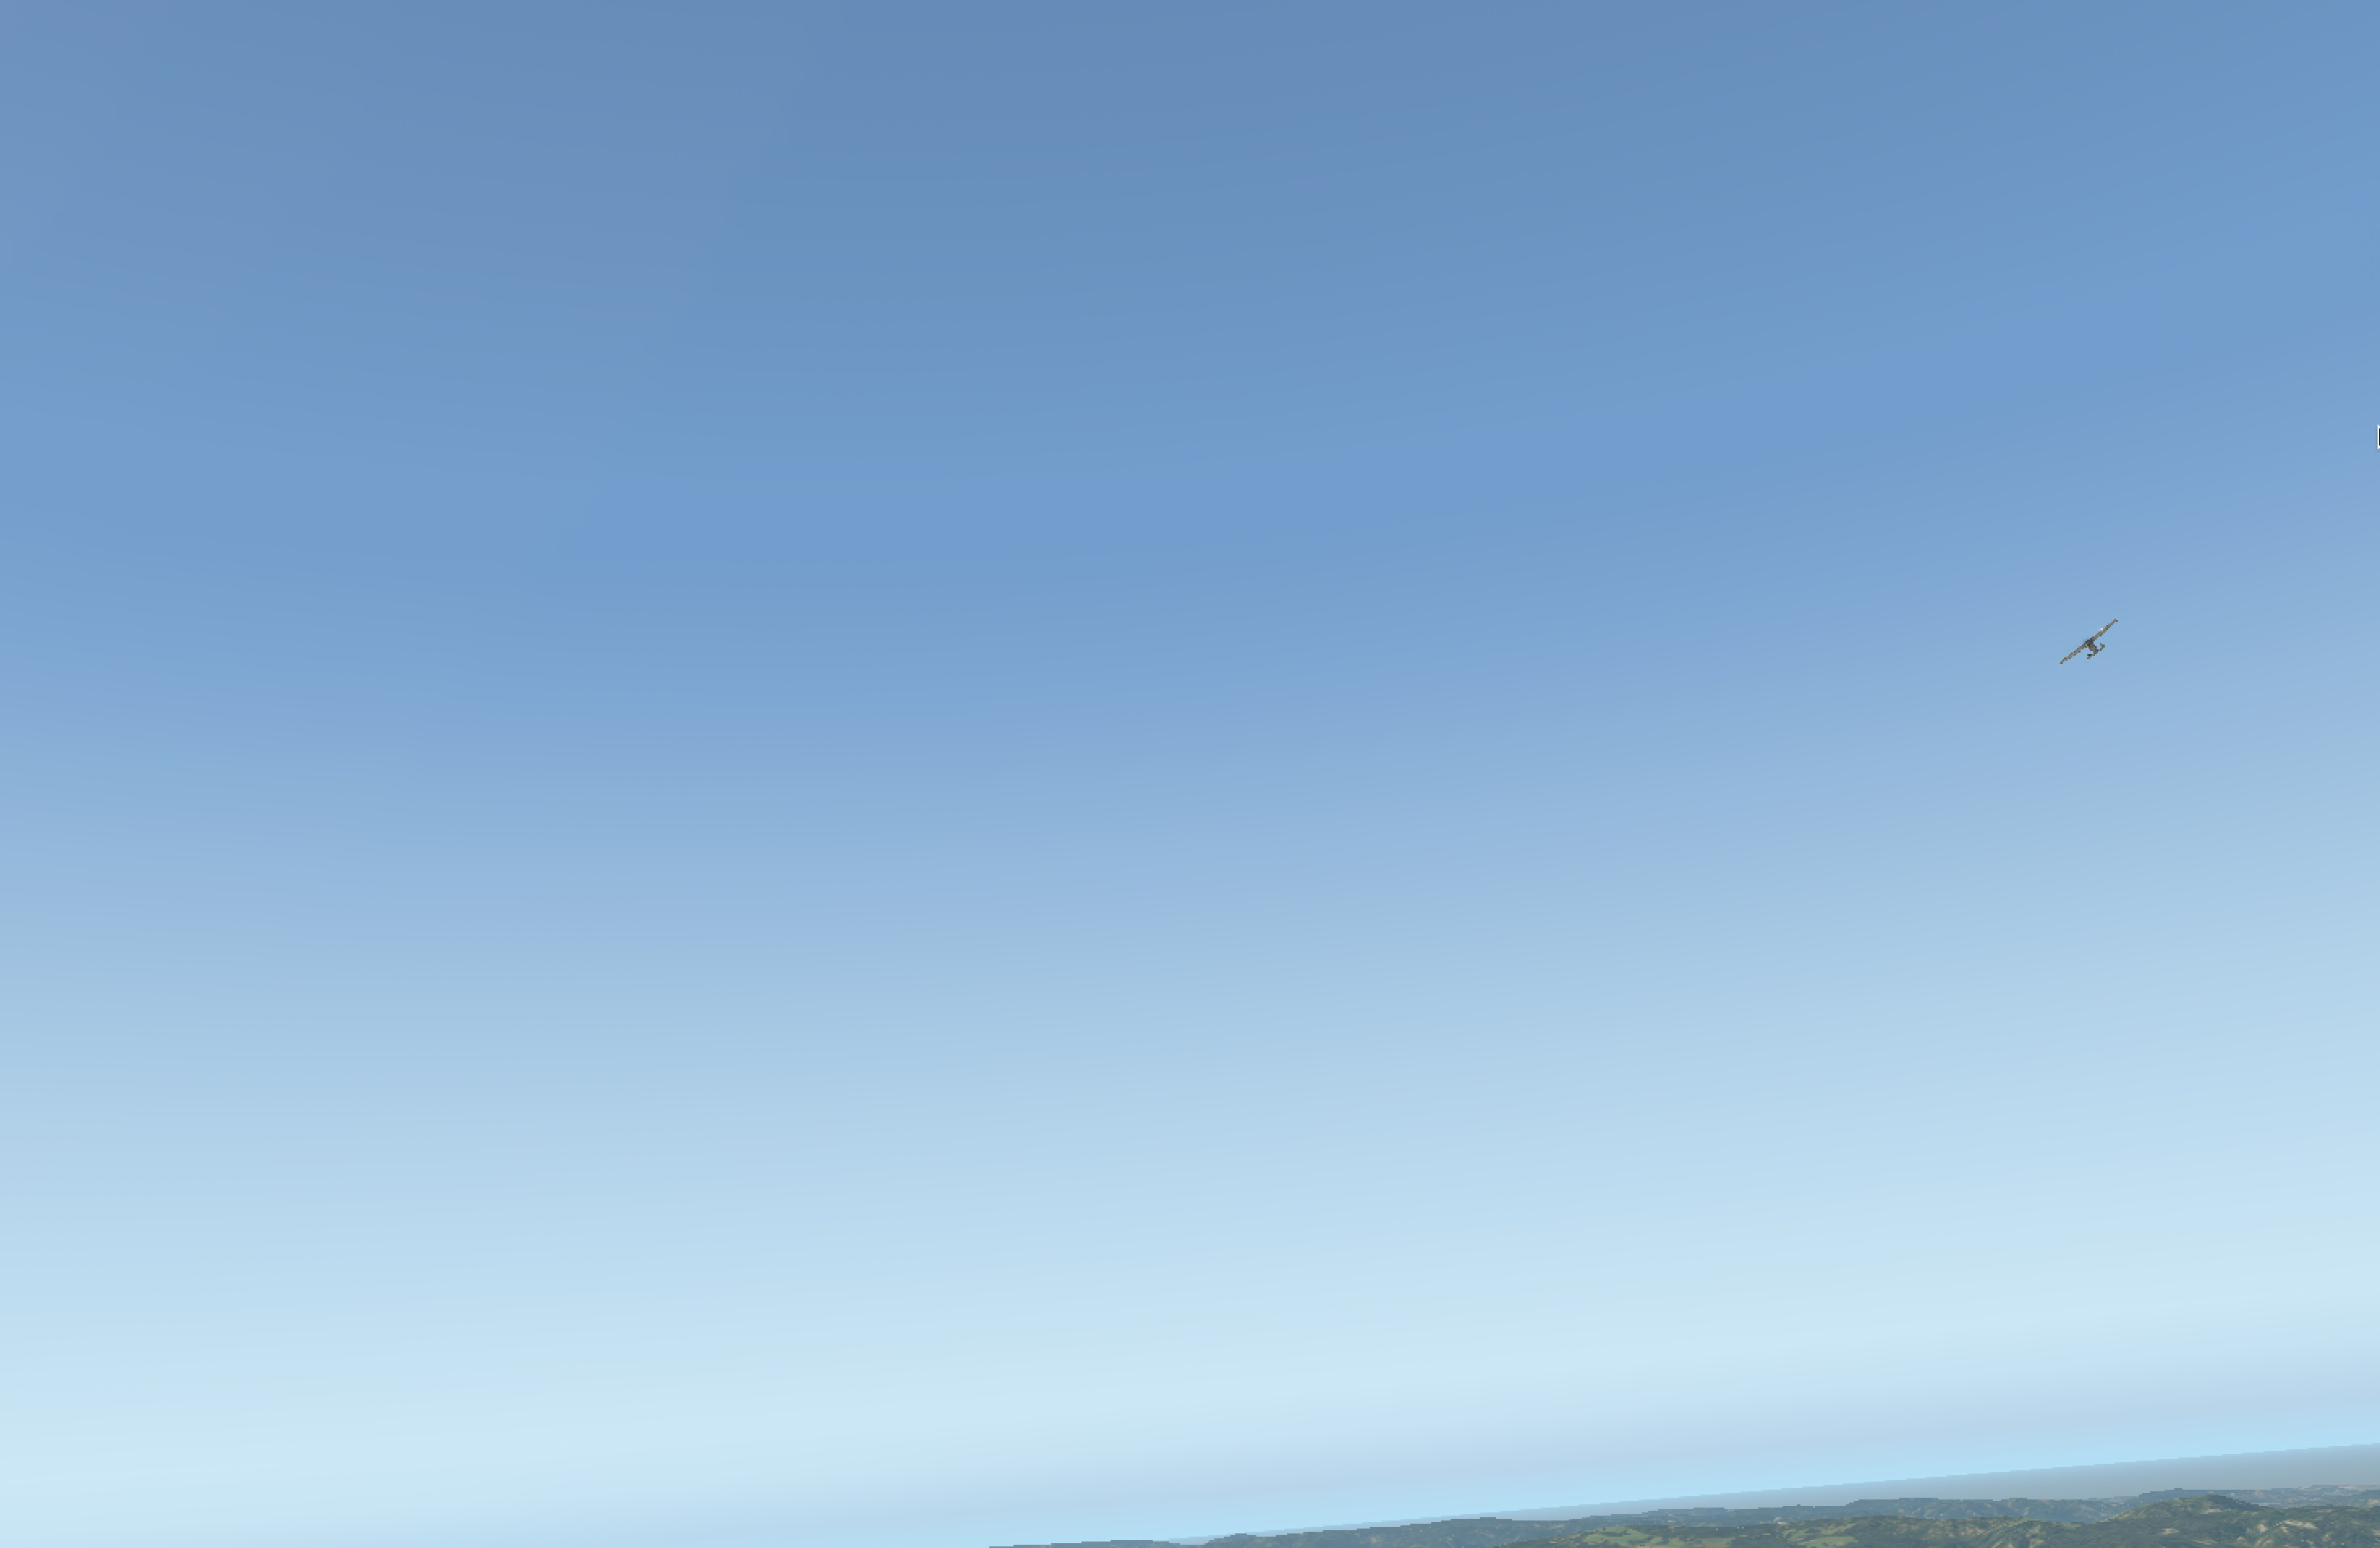aircraft: (2068, 637, 2113, 653)
